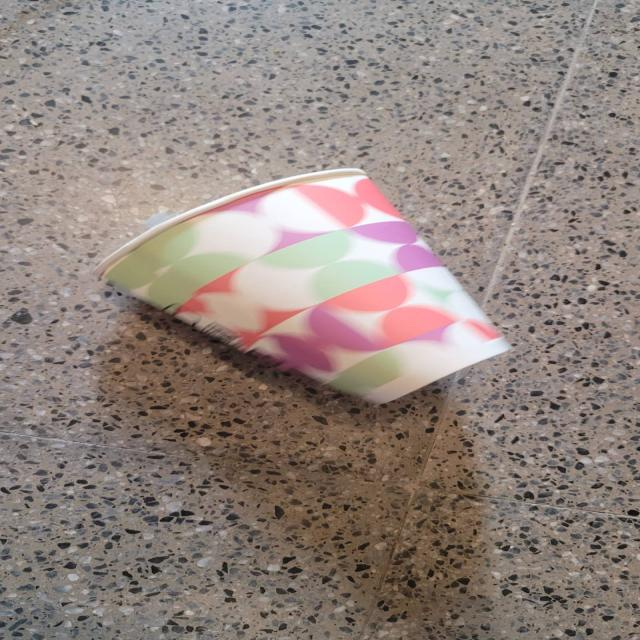Paper bowl: (93, 182, 532, 412)
